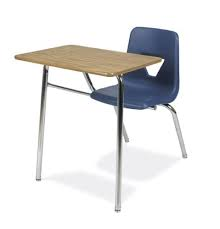desk_053.jpg: (8, 19, 191, 220)
